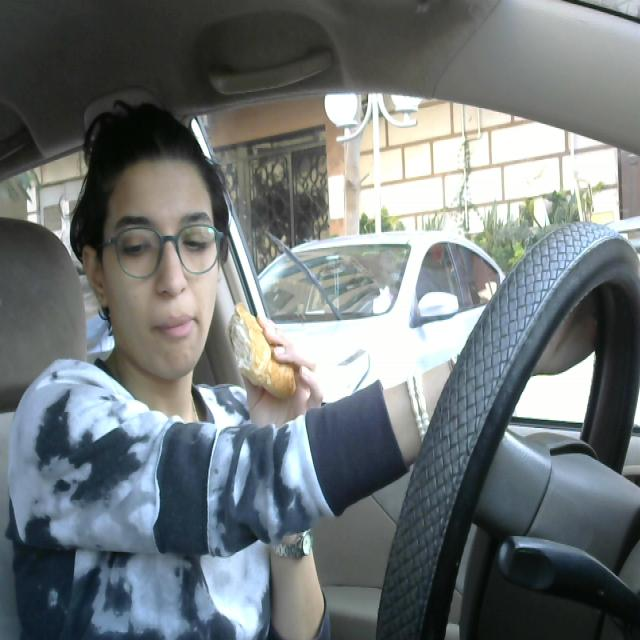eating: (220, 286, 299, 421)
